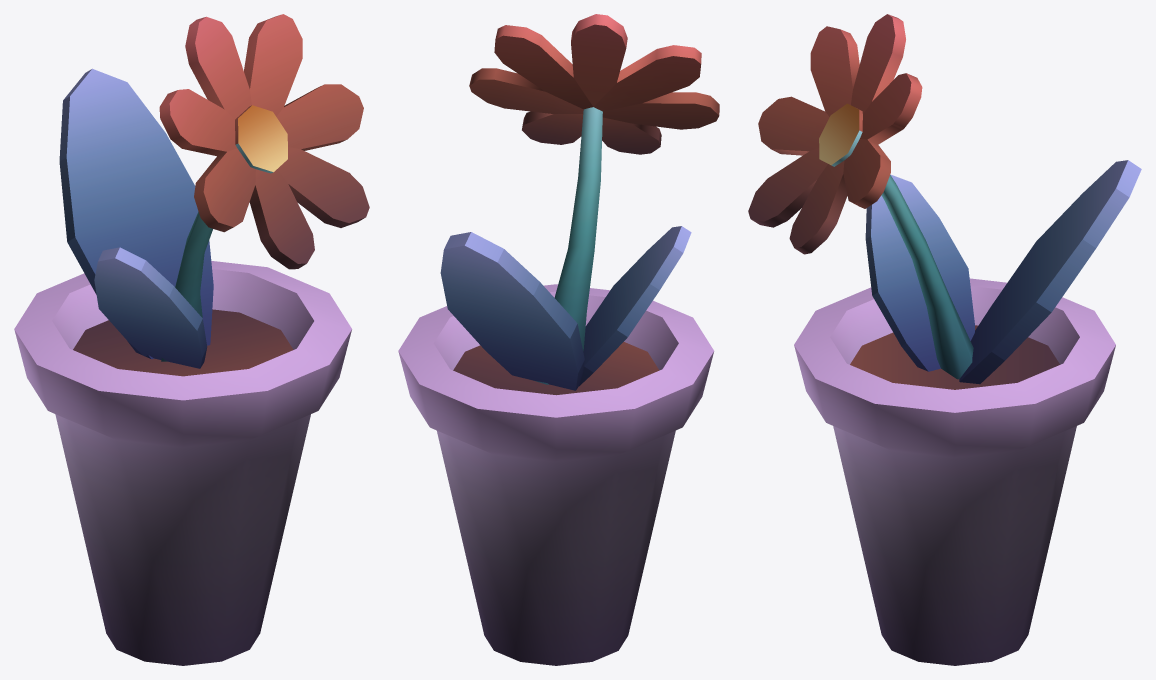
The model's file is SK_Pot.fbx.
3 views of the same model, side by side, from view 1: azimuth 30°, elevation 25°; view 2: azimuth 150°, elevation 25°; view 3: azimuth 270°, elevation 25° (orthographic). The views are drawn at different scales.
Visible parts, largest first — view 1: Cylinder.004; view 2: Cylinder.004; view 3: Cylinder.004.
Part boxes in pixels (bbox=[...]): Cylinder.004: bbox=[14, 14, 369, 665]; Cylinder.004: bbox=[398, 14, 719, 665]; Cylinder.004: bbox=[748, 14, 1141, 665].
Bounding box in the file's own units: 66.07 × 139 × 80.73.
